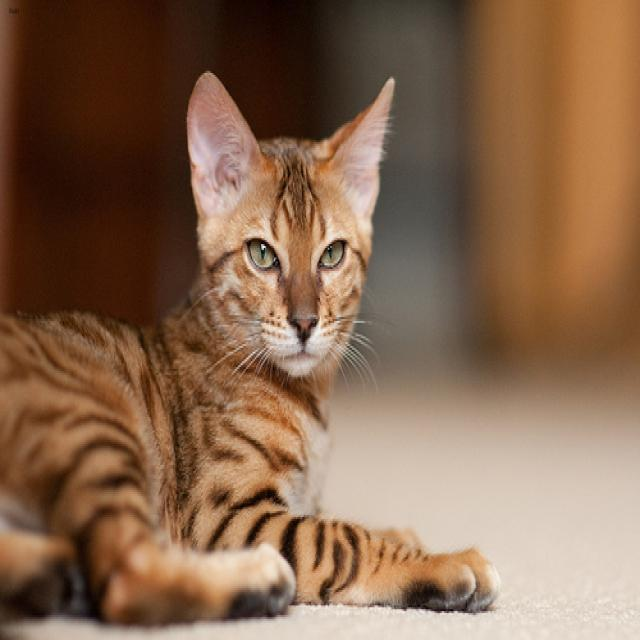Bengal: (175, 64, 401, 380)
